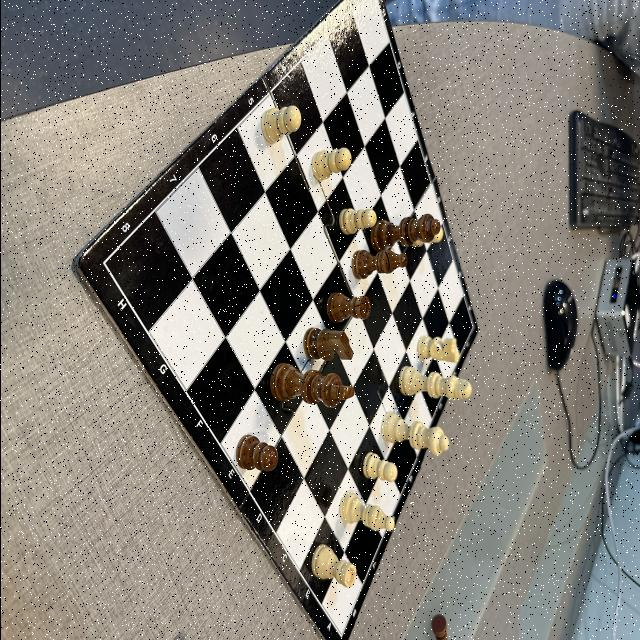Black-Bishop: (350, 250, 408, 280)
Black-King: (268, 362, 354, 408)
Black-Knight: (302, 326, 353, 362)
Black-Pawn: (234, 433, 278, 472)
Black-Queen: (374, 214, 440, 248)
Black-Rook: (325, 292, 371, 324)
White-Bishop: (338, 491, 394, 532)
White-King: (398, 366, 472, 401)
White-Knight: (416, 336, 459, 364)
White-Pawn: (260, 105, 301, 145), (310, 148, 352, 182), (362, 451, 396, 482), (338, 208, 376, 235), (434, 231, 443, 243)
White-Queen: (381, 412, 448, 456)
White-Rook: (310, 543, 356, 589)
